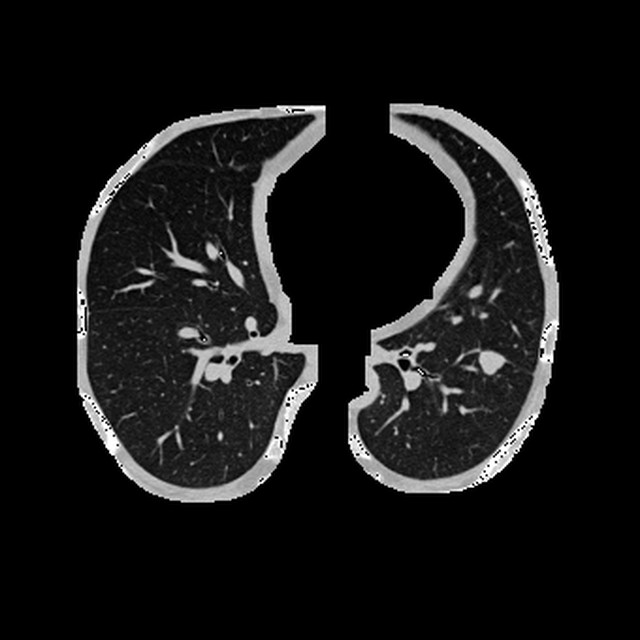PN: (480, 350, 503, 373)
